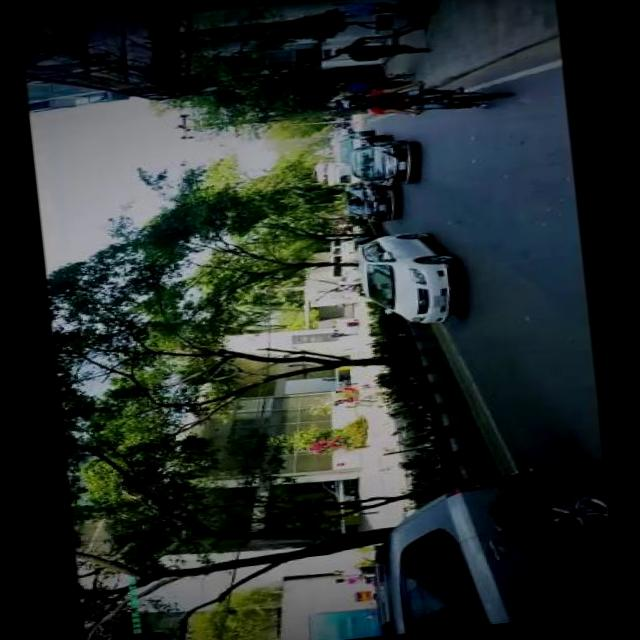car: (360, 466, 624, 636), (352, 228, 455, 330), (346, 140, 412, 191), (340, 179, 394, 226), (334, 268, 360, 299)
truck: (324, 247, 350, 278), (323, 162, 353, 188)
